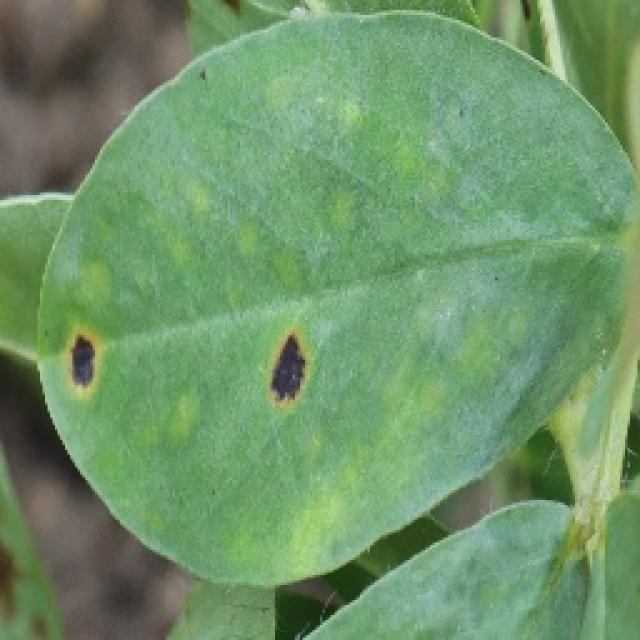Yellowish: (186, 317, 338, 449), (36, 300, 128, 429)
